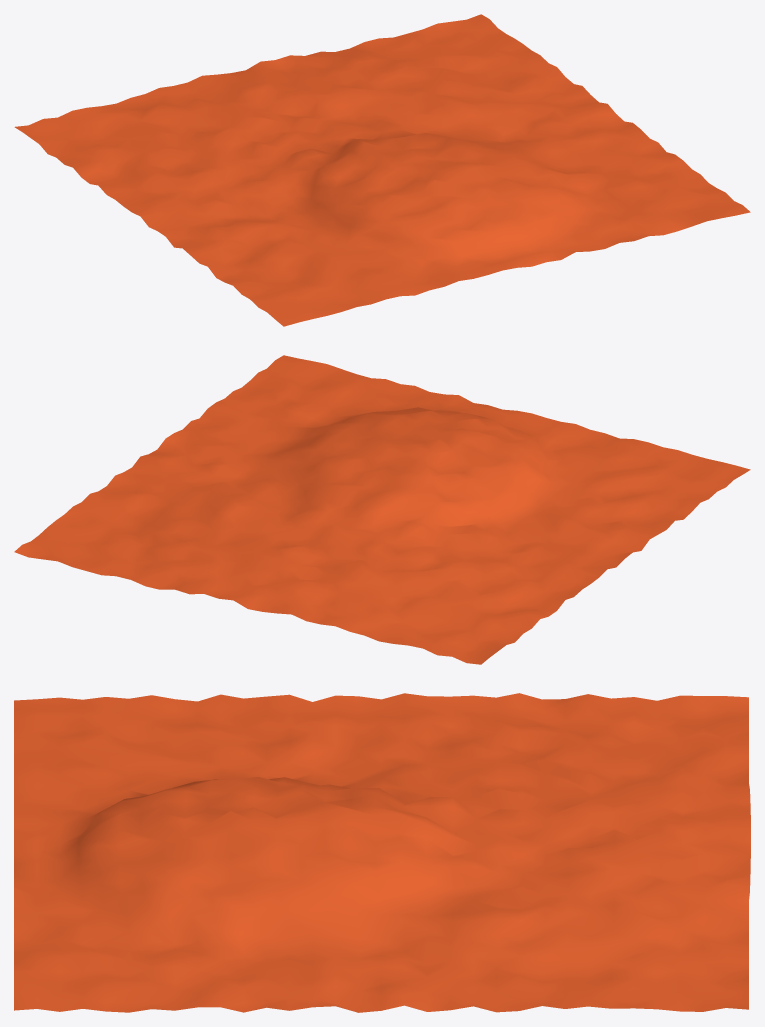
The model's file is testlevel.glb.
The picture shows the model from 3 angles, top to bottom: view 1: azimuth 30°, elevation 25°; view 2: azimuth 150°, elevation 25°; view 3: azimuth 270°, elevation 25°; orthographic projection. The views are drawn at different scales.
Visible parts, largest first — view 1: Terrain; view 2: Terrain; view 3: Terrain.
Part boxes in pixels (bbox=[...]): Terrain: bbox=[14, 14, 750, 326]; Terrain: bbox=[14, 355, 750, 664]; Terrain: bbox=[14, 693, 750, 1012].
Bounding box in the file's own units: 14.94 × 1.02 × 14.98.
